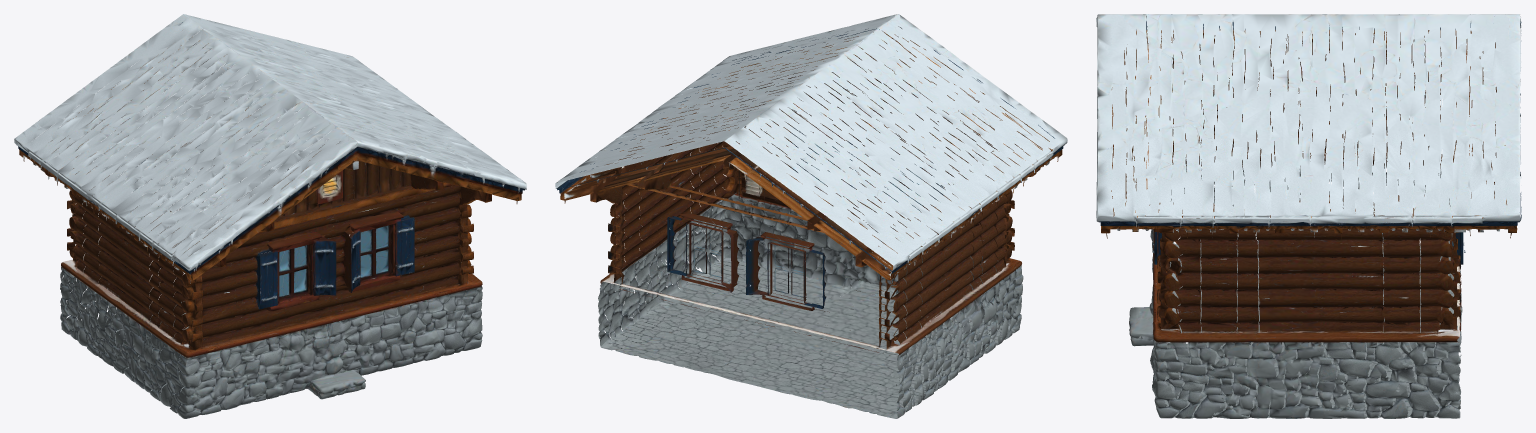
File: alpine_bay.glb
3 views of the same model, side by side, from view 1: azimuth 30°, elevation 25°; view 2: azimuth 150°, elevation 25°; view 3: azimuth 270°, elevation 25° (orthographic). The views are drawn at different scales.
Size of the model in its own units: 1.9 by 1.4 by 1.69.
1 material, 1 textured.
